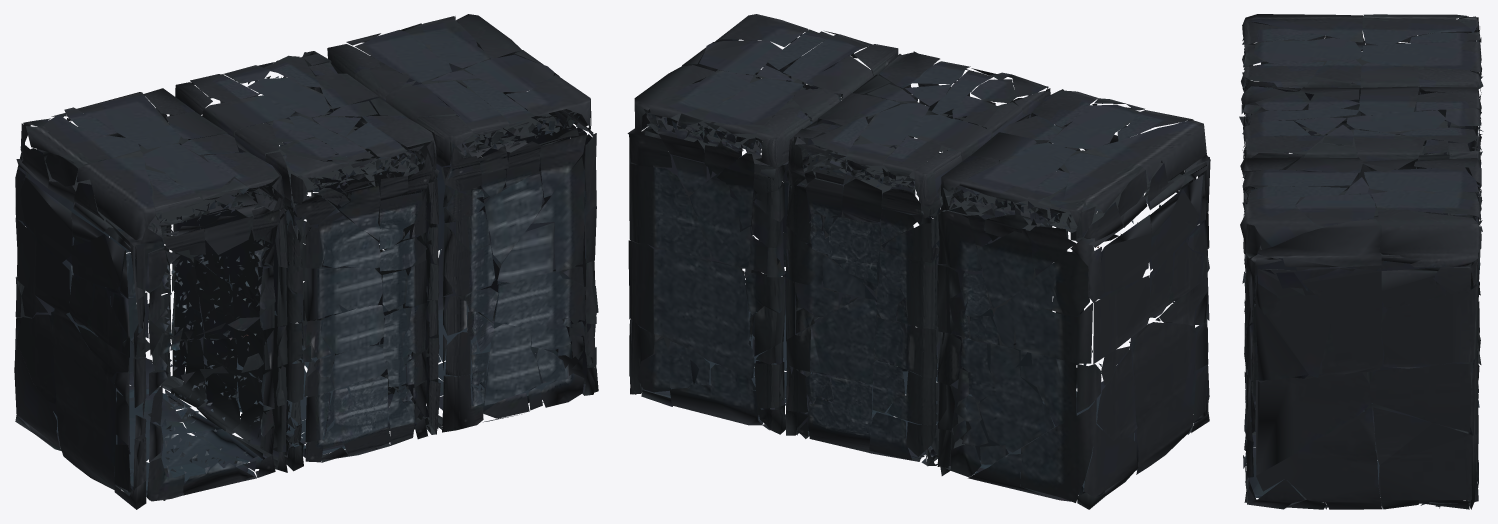
The model's file is co_racks.glb.
3 renders of one model, left to right at view 1: azimuth 30°, elevation 25°; view 2: azimuth 150°, elevation 25°; view 3: azimuth 270°, elevation 25°, orthographic. The views are drawn at different scales.
Visible parts, largest first — view 1: Mesh_0; view 2: Mesh_0; view 3: Mesh_0.
Part boxes in pixels (box(x1,y1,x2,y2)): Mesh_0: box(14, 14, 598, 509); Mesh_0: box(627, 14, 1210, 509); Mesh_0: box(1239, 14, 1483, 509).
Bounding box in the file's own units: 1.92 × 1.19 × 0.9044.
Materials: 1 (1 with a texture image).
